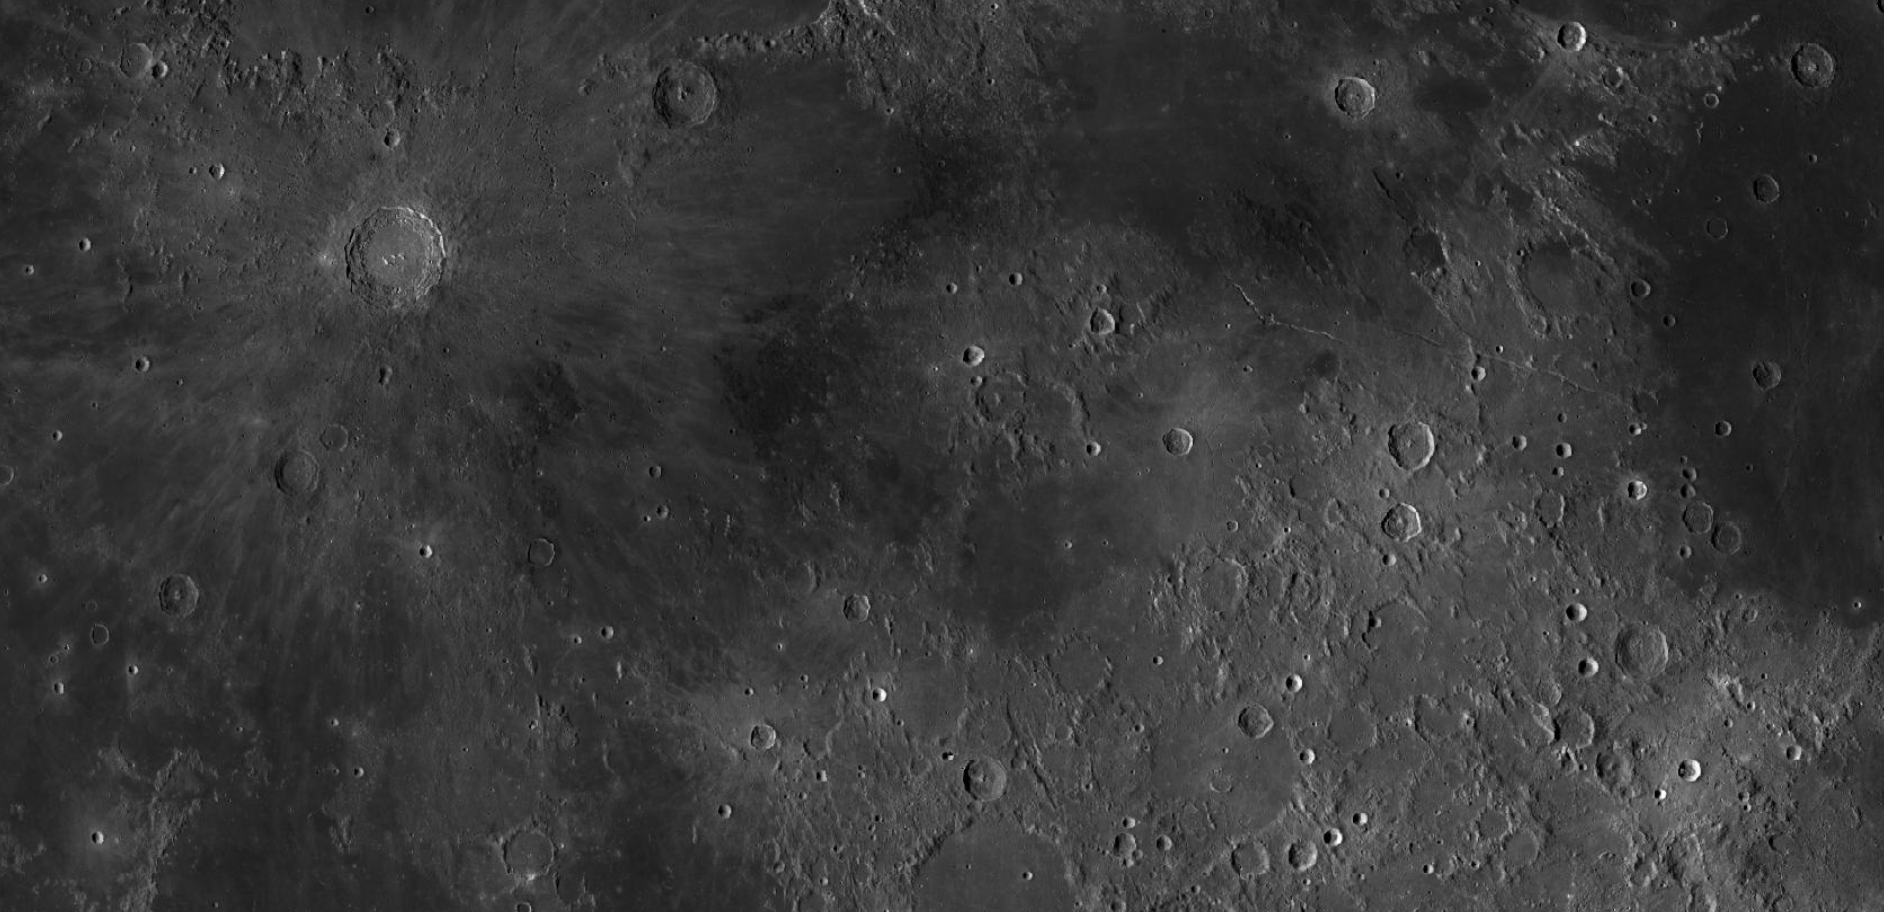crater: (279, 169, 549, 392), (598, 46, 737, 175), (1282, 46, 1399, 143), (477, 787, 583, 887), (1351, 387, 1439, 478), (1603, 603, 1677, 704), (1731, 344, 1825, 421), (141, 534, 210, 630), (1206, 682, 1283, 759), (935, 739, 1025, 803), (509, 513, 591, 578), (1149, 389, 1208, 467), (398, 520, 464, 577), (184, 139, 245, 195), (129, 326, 177, 388), (105, 655, 154, 687), (42, 673, 79, 707)
